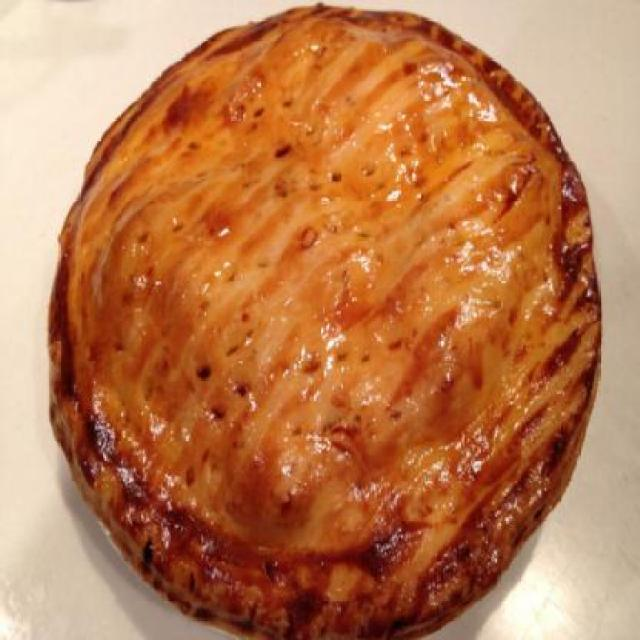Apple: (54, 1, 602, 638)
